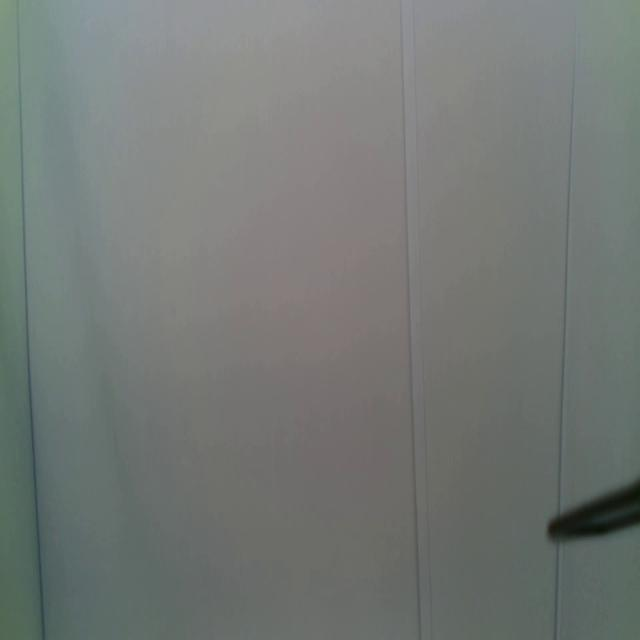crease: (399, 0, 434, 640), (15, 1, 46, 640), (556, 0, 577, 512), (552, 546, 566, 640)
